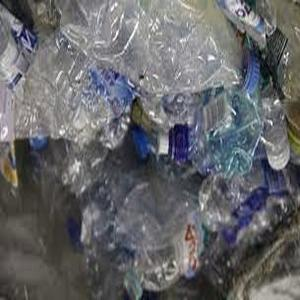Plastic: (58, 0, 256, 93), (156, 94, 262, 176)
